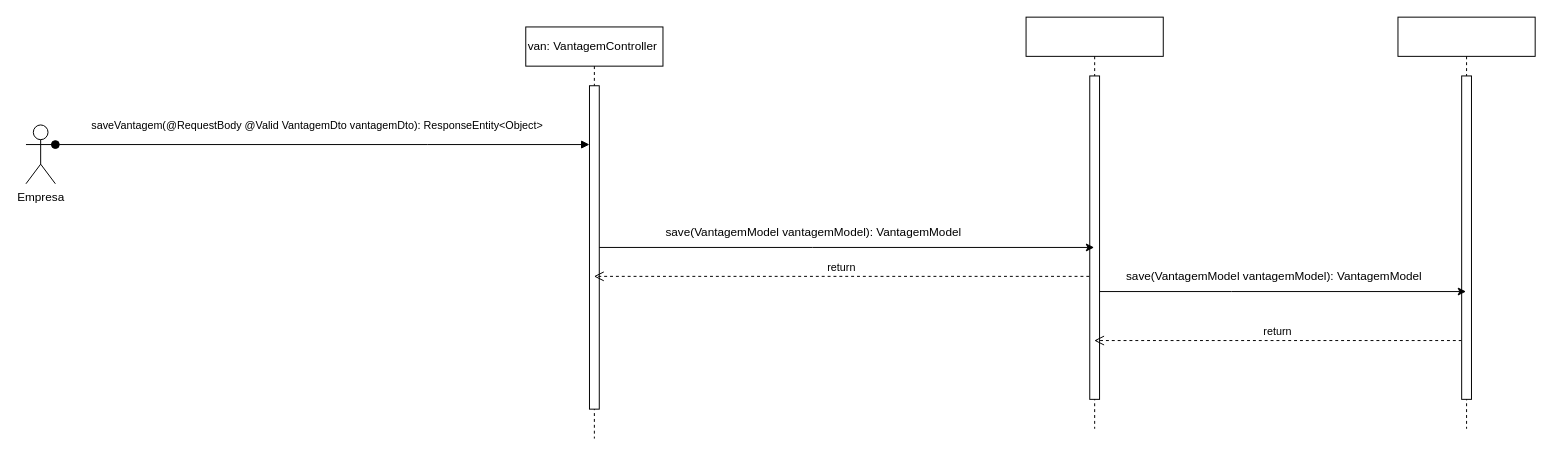
The diagram is 1552 pixels wide and 456 high, and some of its shapes have lost their labels. Each missing label, with the box of its shape:
vanR: VantagemRepository: (1397, 16, 1535, 429)
vanS: VantagemService: (1025, 16, 1163, 429)
